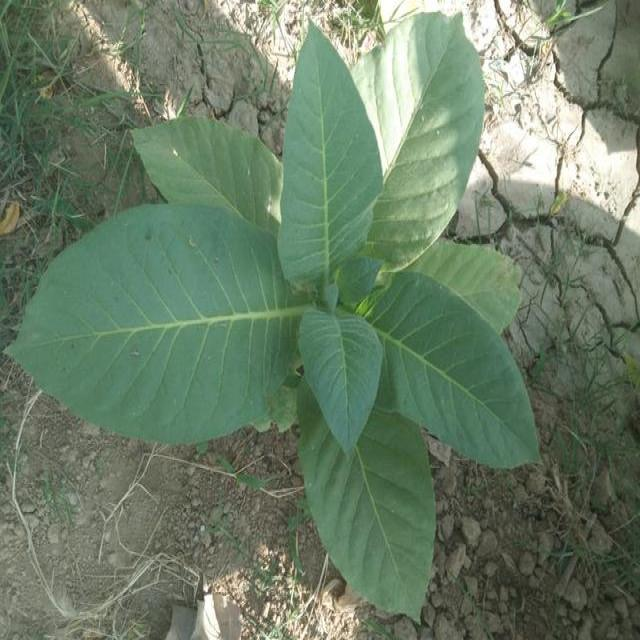crop: (6, 9, 547, 615)
